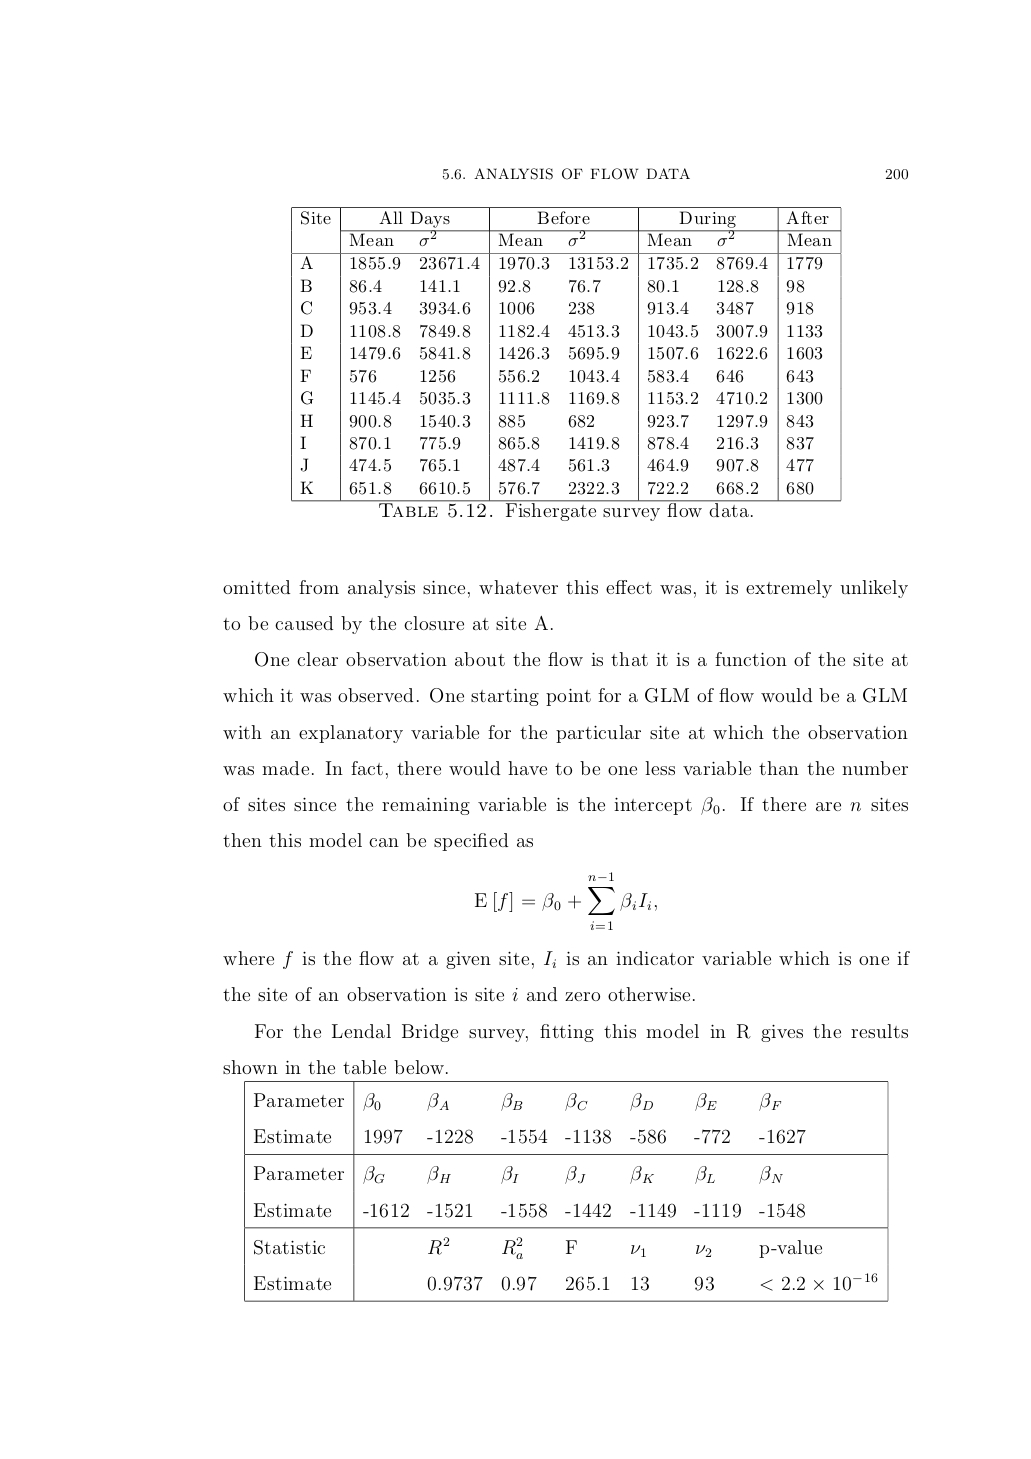Table: (291, 207, 839, 501), (244, 1080, 888, 1302)
formula: (474, 872, 656, 929)
